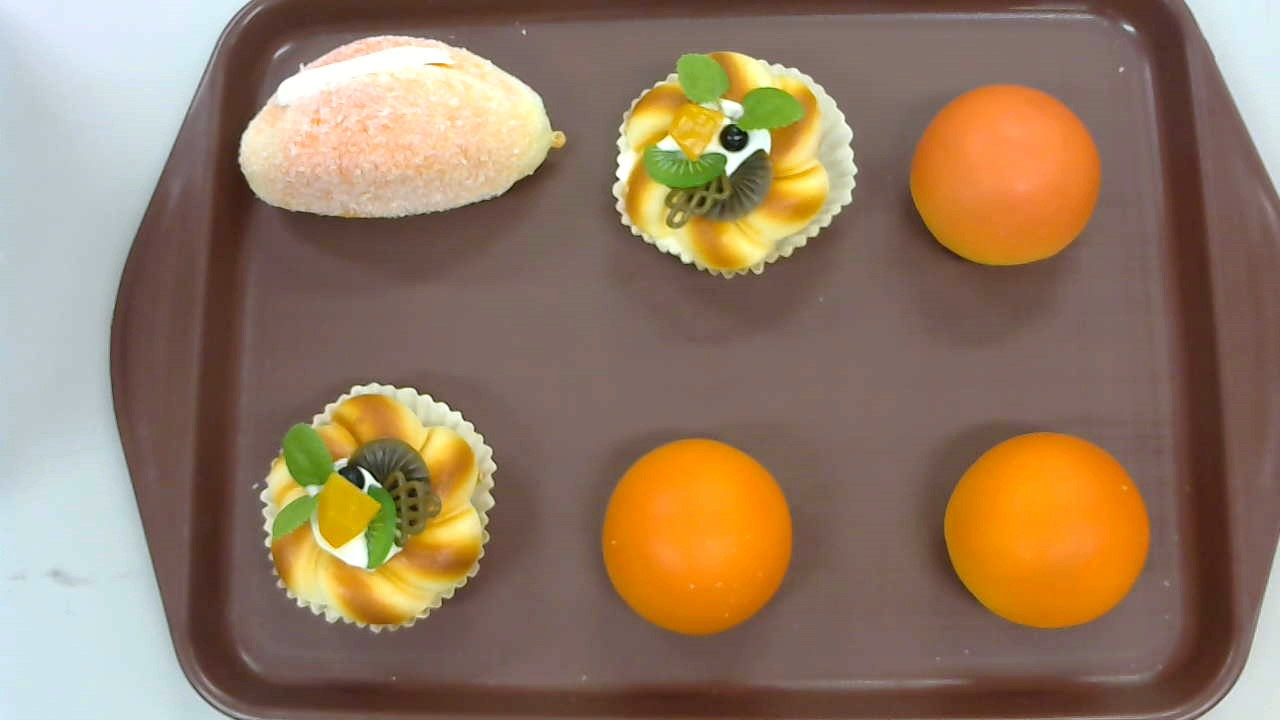bun: (944, 430, 1150, 627), (602, 437, 792, 637), (908, 82, 1100, 268)
coconut: (236, 34, 566, 220)
fruit tart: (260, 382, 498, 635), (610, 50, 857, 282)
